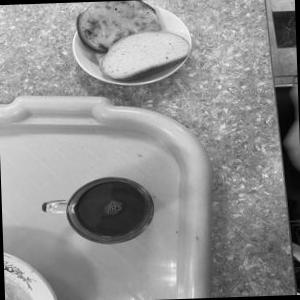bread: (100, 24, 195, 90)
cheese_sandwich: (65, 0, 168, 53)
coffee: (51, 176, 162, 254)
